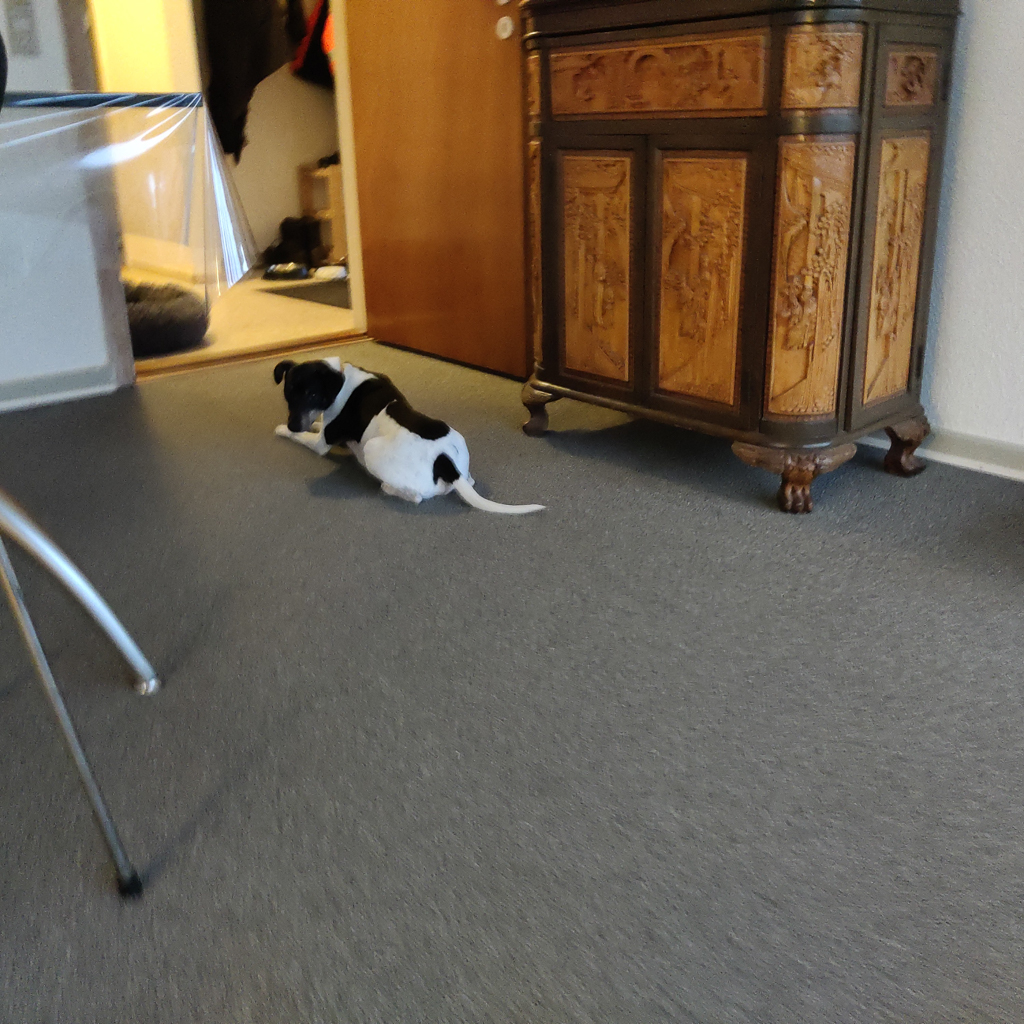Dog: (244, 340, 561, 524)
